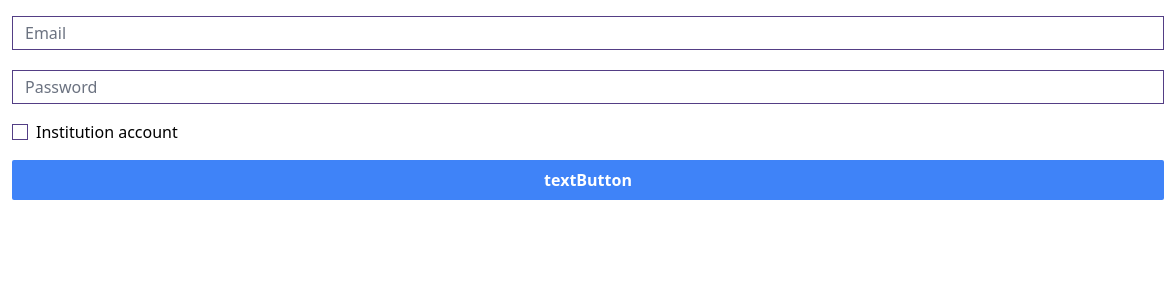
Test: testing loginOrSignupForm › should show a error message when password is less than 6 characters
The width and height of the screenshot is (1176, 286).
In the field with placeholder "Email": (588, 33) top-left (12, 16), bottom-right (1164, 50), type "test@gmail.com"
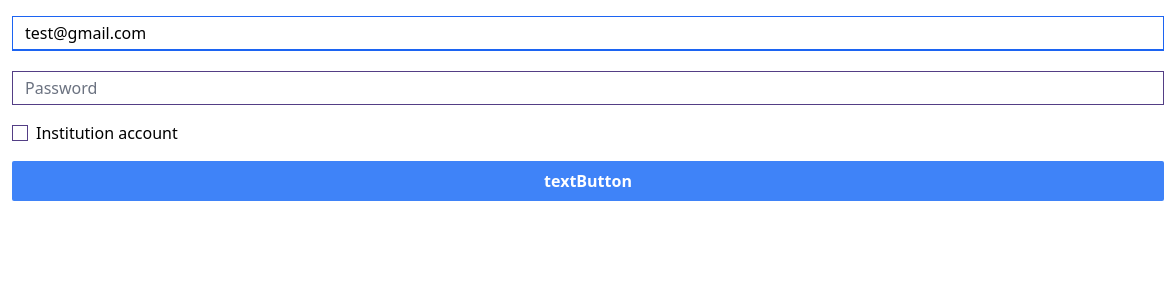
In the password field with placeholder "Password": (588, 88) top-left (12, 71), bottom-right (1164, 105), type "12345"
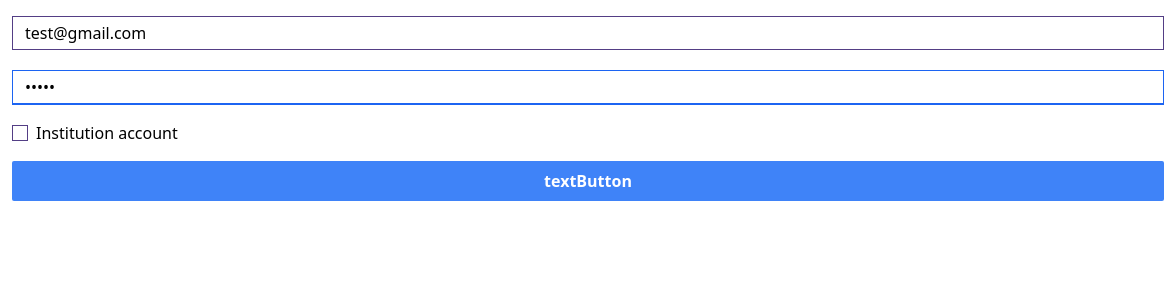
Click the button "textButton": (588, 181) top-left (12, 161), bottom-right (1164, 201)
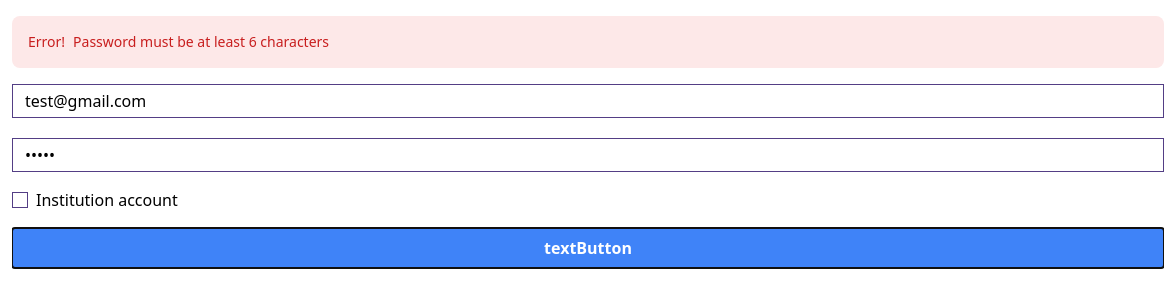
Result: the text "Password must be at least 6 characters" is shown at top-left (73, 32), bottom-right (329, 51)
